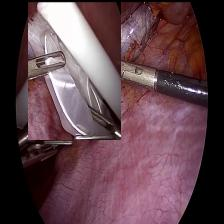Specimen Bag: (27, 0, 120, 139)
